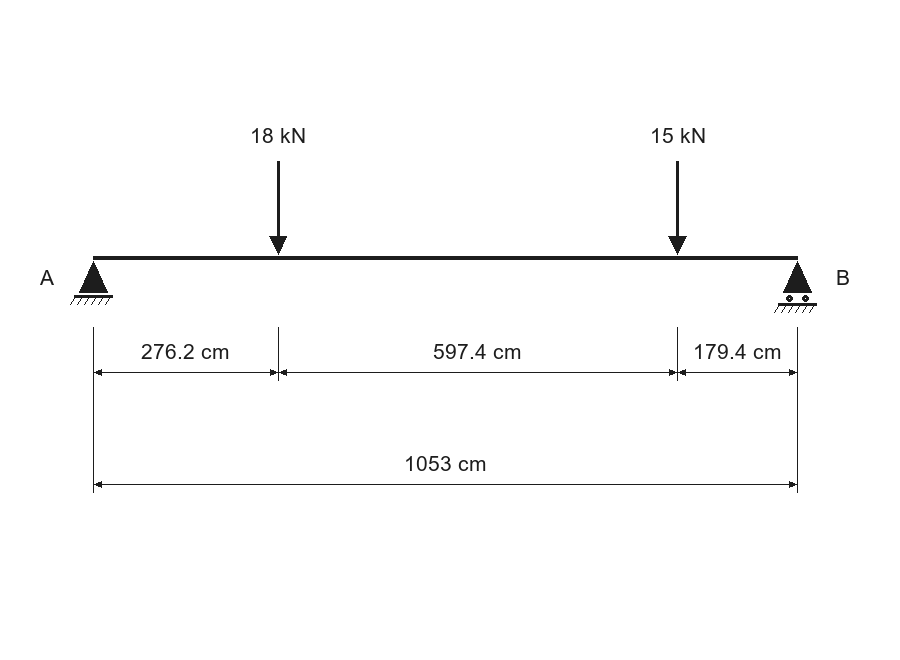pin_support: (70, 261, 113, 305)
point_load: (668, 161, 687, 255), (269, 161, 287, 255)
roller_support: (774, 261, 817, 313)
